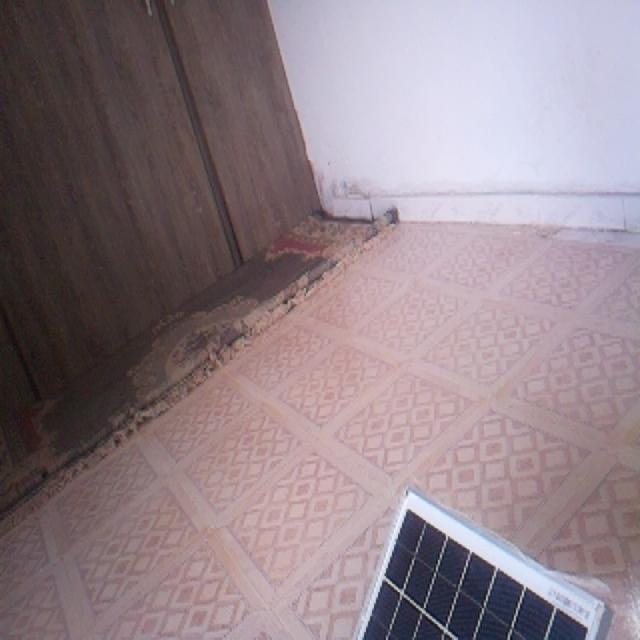Normal Solar Panel: (359, 489, 605, 640)
